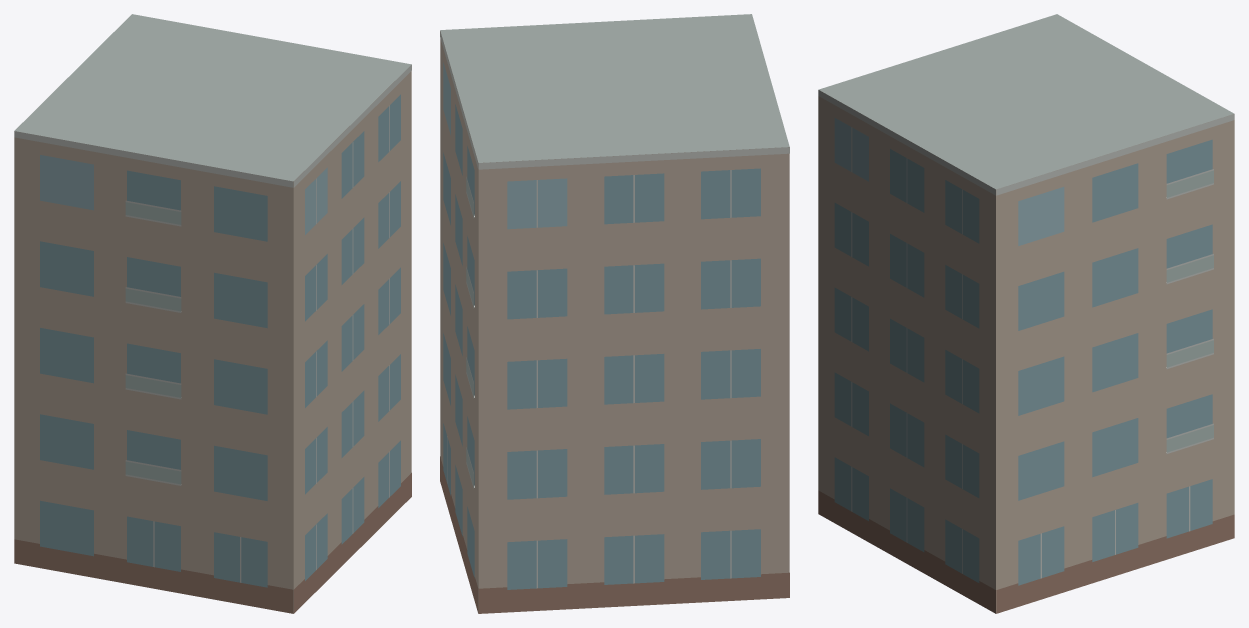
File: survey-upis-32884308.glb
3 renders of one model, left to right at view 1: azimuth 30°, elevation 25°; view 2: azimuth 150°, elevation 25°; view 3: azimuth 270°, elevation 25°, orthographic. The views are drawn at different scales.
Visible parts, largest first — view 1: survey-upis-32884308.tmp; view 2: survey-upis-32884308.tmp; view 3: survey-upis-32884308.tmp.
Boxes of the visible parts, x1,y1,x2,y2 form: survey-upis-32884308.tmp: [14, 14, 411, 613]; survey-upis-32884308.tmp: [440, 14, 789, 613]; survey-upis-32884308.tmp: [818, 14, 1234, 613].
Bounding box in the file's own units: 14.64 × 16.5 × 14.67.
